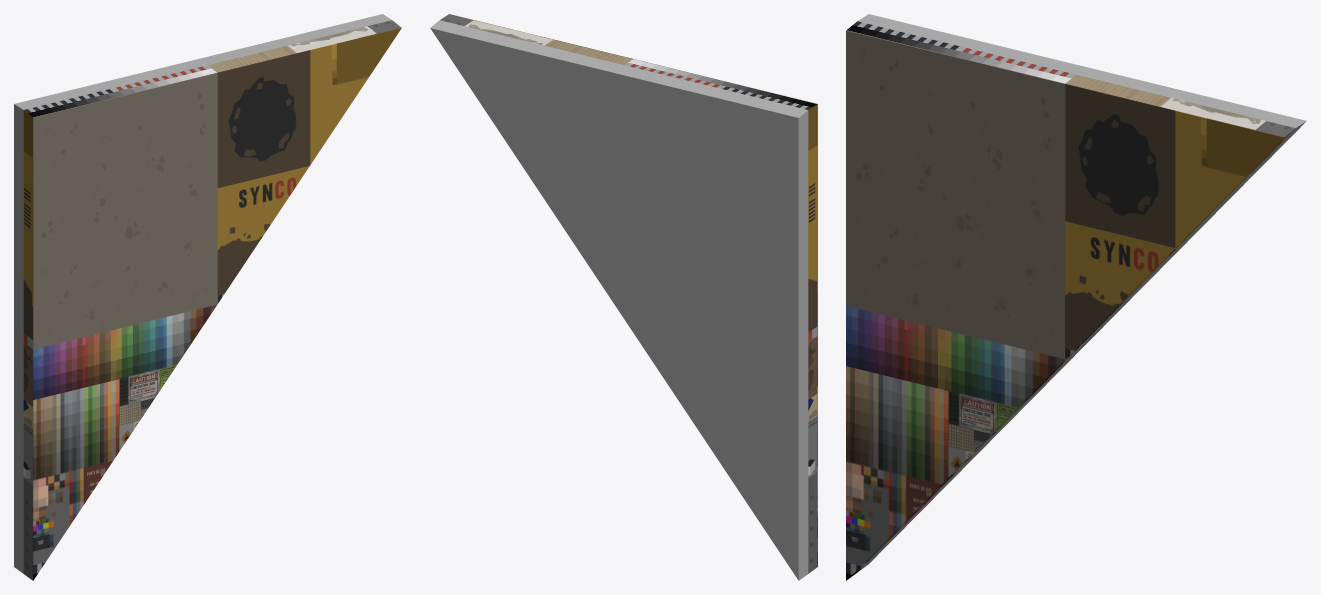
The model's file is SM_Bld_Base_Wall_Angle_02.glb.
3 views of the same model, side by side, from view 1: azimuth 30°, elevation 25°; view 2: azimuth 150°, elevation 25°; view 3: azimuth 330°, elevation 25° (orthographic). The views are drawn at different scales.
Visible parts, largest first — view 1: SM_Bld_Base_Wall_Angle_02; view 2: SM_Bld_Base_Wall_Angle_02; view 3: SM_Bld_Base_Wall_Angle_02.
Boxes of the visible parts, x1=… form: SM_Bld_Base_Wall_Angle_02: x1=14, y1=14, x2=401, y2=580; SM_Bld_Base_Wall_Angle_02: x1=430, y1=14, x2=817, y2=580; SM_Bld_Base_Wall_Angle_02: x1=846, y1=14, x2=1306, y2=580.
Bounding box in the file's own units: 2.5 × 3.01 × 0.225.
2 materials, 1 textured.
